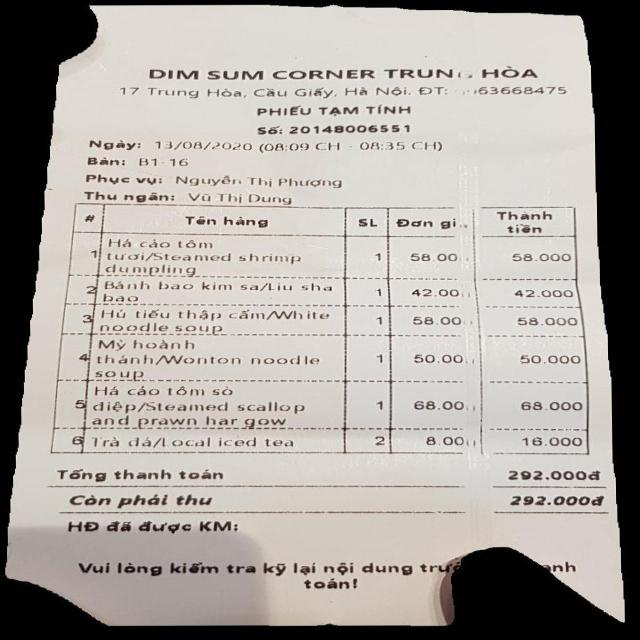Date: (152, 139, 254, 152)
Store_Name: (135, 64, 551, 82)
amount_number: (498, 467, 592, 482)
label_total: (53, 466, 228, 482)
